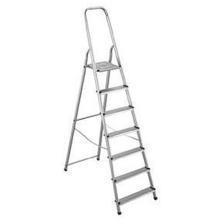Hand: (96, 9, 124, 63)
